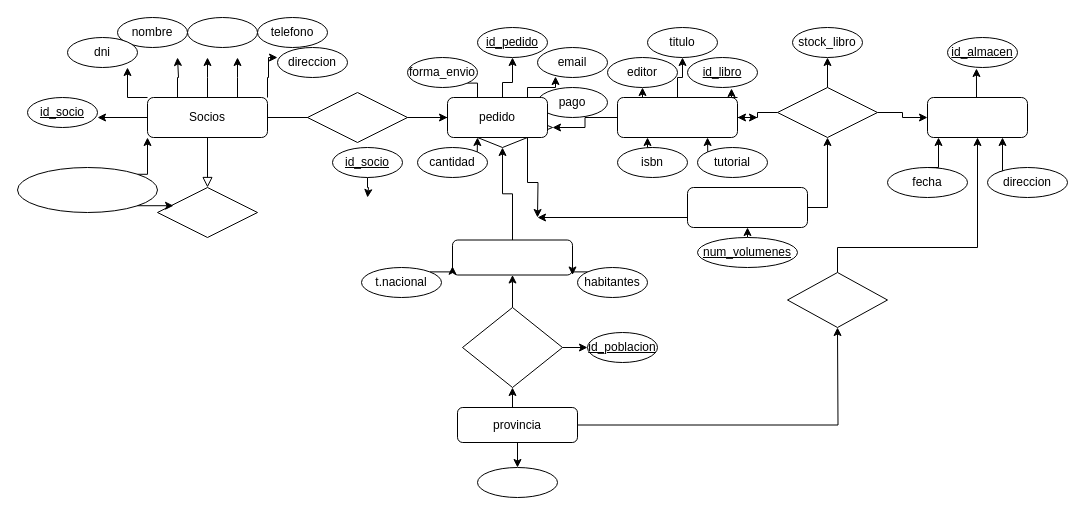
Image size: 1085x515. Some labels were removed from this diagram. The box of each missing label's shape, as (x1, y1, x2, y2) in pixels:
almacen: (926, 96, 1028, 138)
apellido: (186, 16, 258, 48)
avalar: (156, 186, 258, 238)
colecciones: (686, 186, 808, 228)
comprar: (306, 92, 408, 142)
extension: (476, 466, 558, 498)
id_socio_avalador: (16, 166, 158, 212)
libros: (616, 96, 738, 138)
pertenece: (462, 306, 562, 388)
poblacion: (452, 239, 572, 275)
surte: (786, 272, 888, 328)
ubicar: (776, 86, 878, 138)
